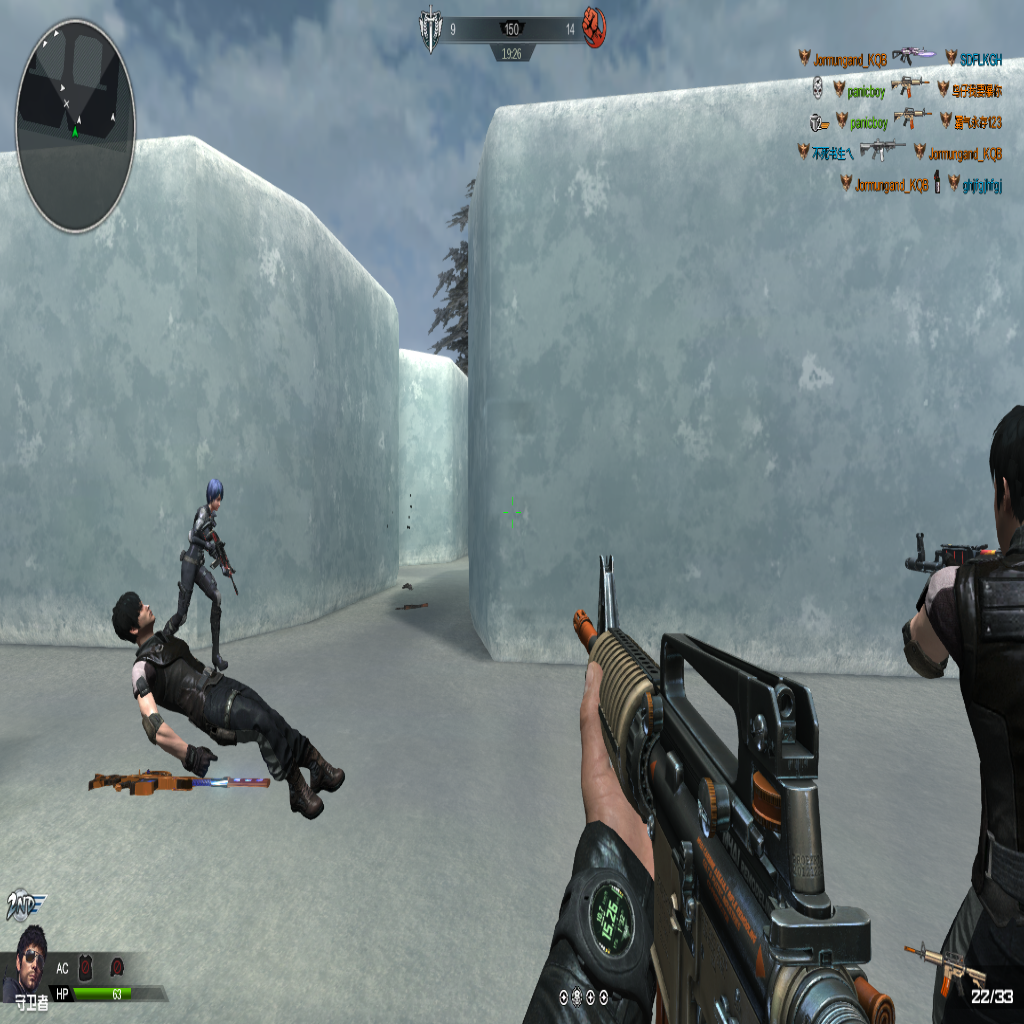ct: (166, 480, 235, 678)
